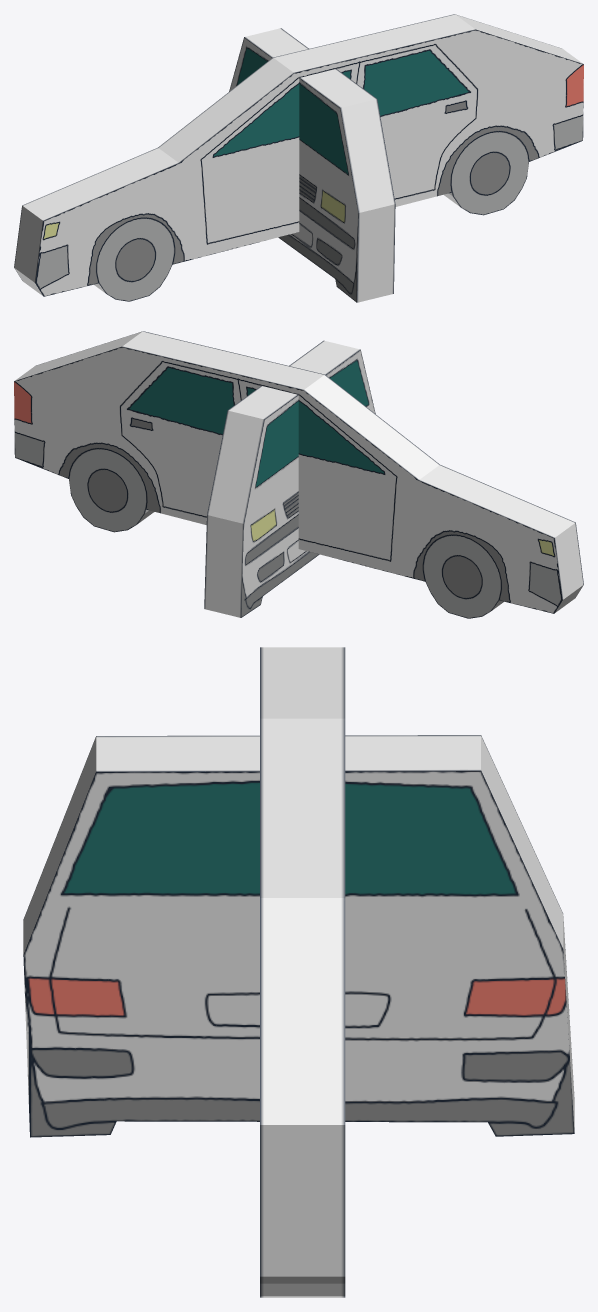
Rendered from 171215_EXP_IE_0404_paraglider_Level_City_kfz_bk.fbx.
3 views of the same model, one above another, from view 1: azimuth 30°, elevation 25°; view 2: azimuth 150°, elevation 25°; view 3: azimuth 270°, elevation 25° (orthographic). The views are drawn at different scales.
Visible parts, largest first — view 1: kfz_seitlich, kfz_frontal; view 2: kfz_seitlich, kfz_frontal; view 3: kfz_frontal, kfz_seitlich.
Part boxes in pixels (x1,y1,x2,y2): kfz_seitlich: (14, 14, 583, 301); kfz_frontal: (229, 28, 395, 302); kfz_seitlich: (14, 331, 583, 618); kfz_frontal: (204, 340, 375, 617); kfz_frontal: (23, 735, 574, 1137); kfz_seitlich: (260, 647, 345, 1297).
Bounding box in the file's own units: 742 × 244 × 323.
Materials: 1 (1 with a texture image).
